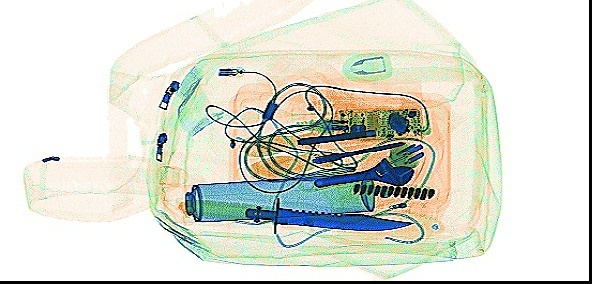knife: (178, 199, 412, 230)
pressure: (174, 171, 374, 222)
